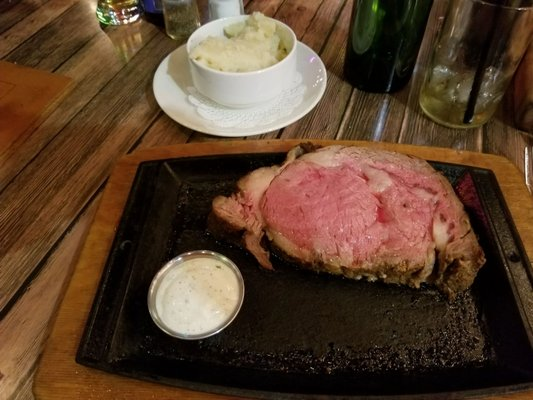pizza: (407, 0, 533, 130), (95, 0, 142, 30)
sushi: (185, 13, 301, 109), (147, 250, 245, 341)
